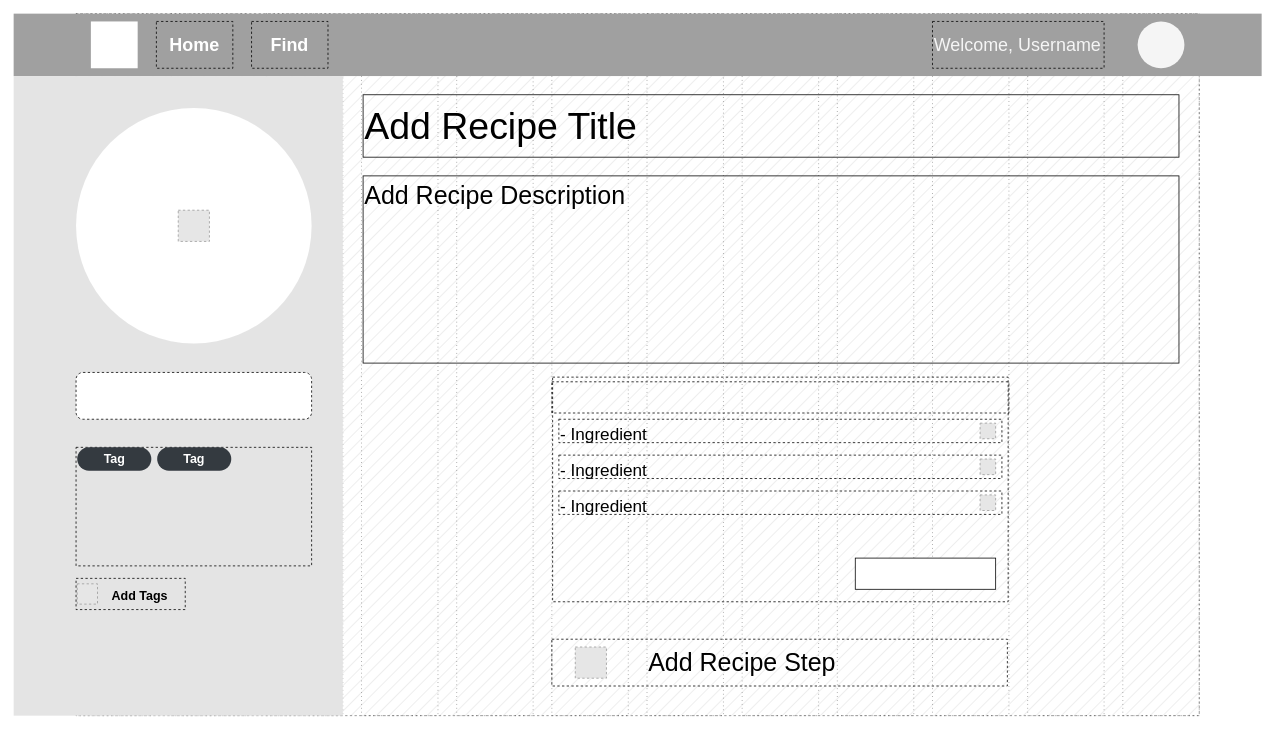
The diagram is 1275 pixels wide and 729 high, and some of its shapes have lost their labels. Grey dashed boxes stand in for pictures. The centre of each missing label's shape, as x and y in pixels:
"Add Ingredients" goes at pixel 925 573.
"Icon" goes at pixel 113 44.
"Ingredients" goes at pixel 780 397.
"Set Cook Time" goes at pixel 193 395.
"User Icon" goes at pixel 1160 44.
